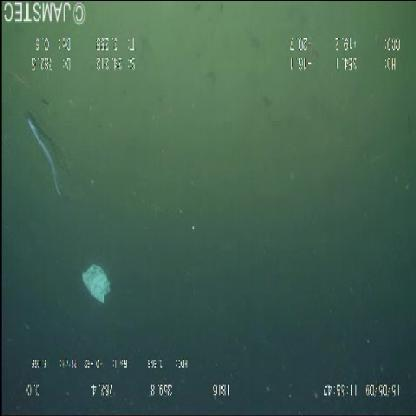Bio: (22, 108, 66, 206)
Rác: (77, 260, 117, 312)
